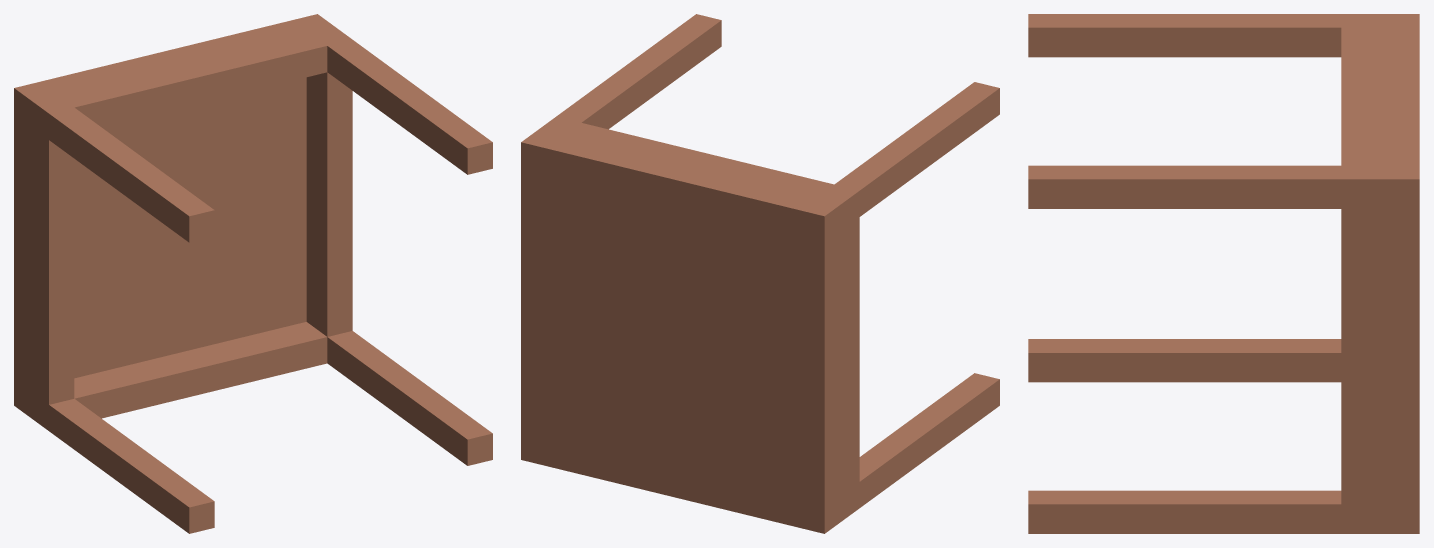
File: masa.fbx
3 renders of one model, left to right at view 1: azimuth 30°, elevation 25°; view 2: azimuth 150°, elevation 25°; view 3: azimuth 270°, elevation 25°, orthographic. The views are drawn at different scales.
Visible parts, largest first — view 1: masa; view 2: masa; view 3: masa.
Boxes of the visible parts, <box> form: masa: <box>14,14,492,533</box>; masa: <box>521,14,999,533</box>; masa: <box>1028,14,1419,533</box>.
Bounding box in the file's own units: 1 × 1 × 1.
